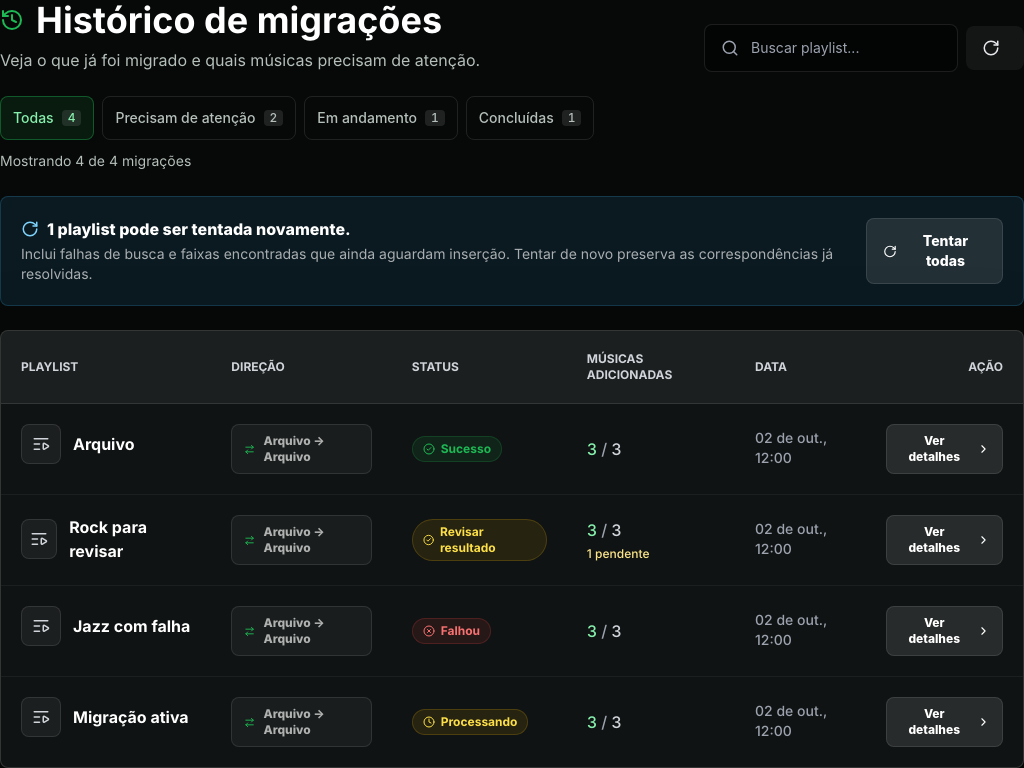
Test: combina filtro de atenção e busca, e permite limpar um resultado vazio
The image size is (1024, 768).
Click the button "Precisam de atenção 2".
click(199, 118)  # box [102,96,296,140]
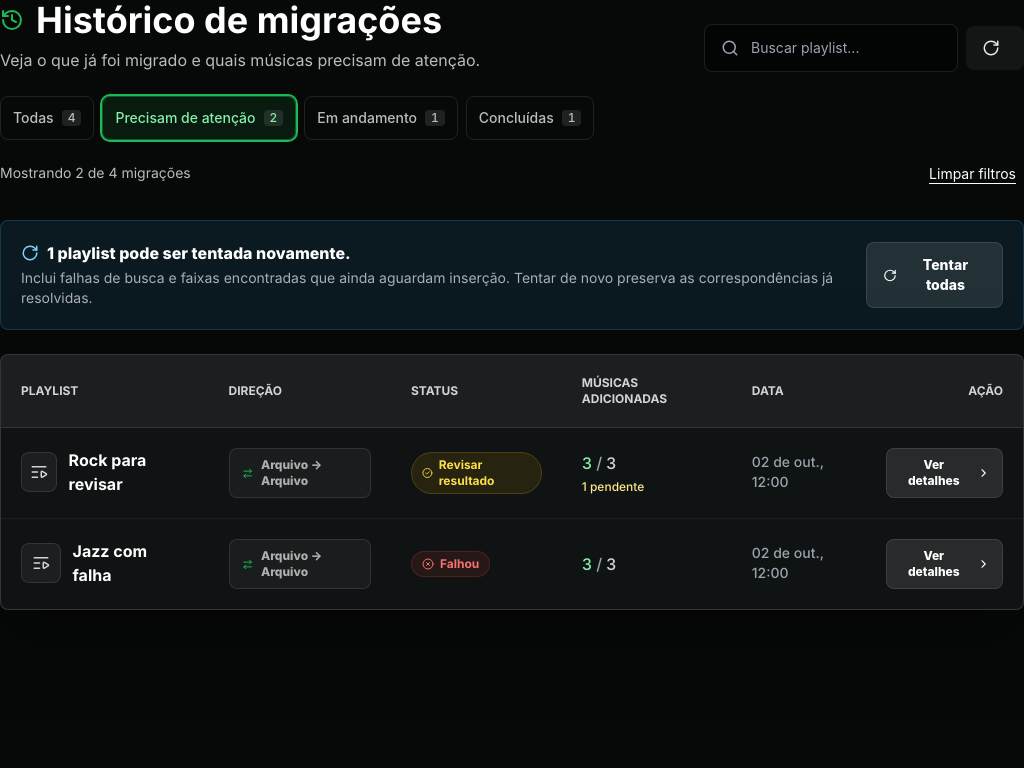
Expected: the cell "Rock para revisar" is shown, [1,428,208,516]
Expected: the text "Migração ativa" is gone
Type "rock" into the field labelled "Buscar playlist".
click(846, 48); type("rock")  # box [751,26,941,70]
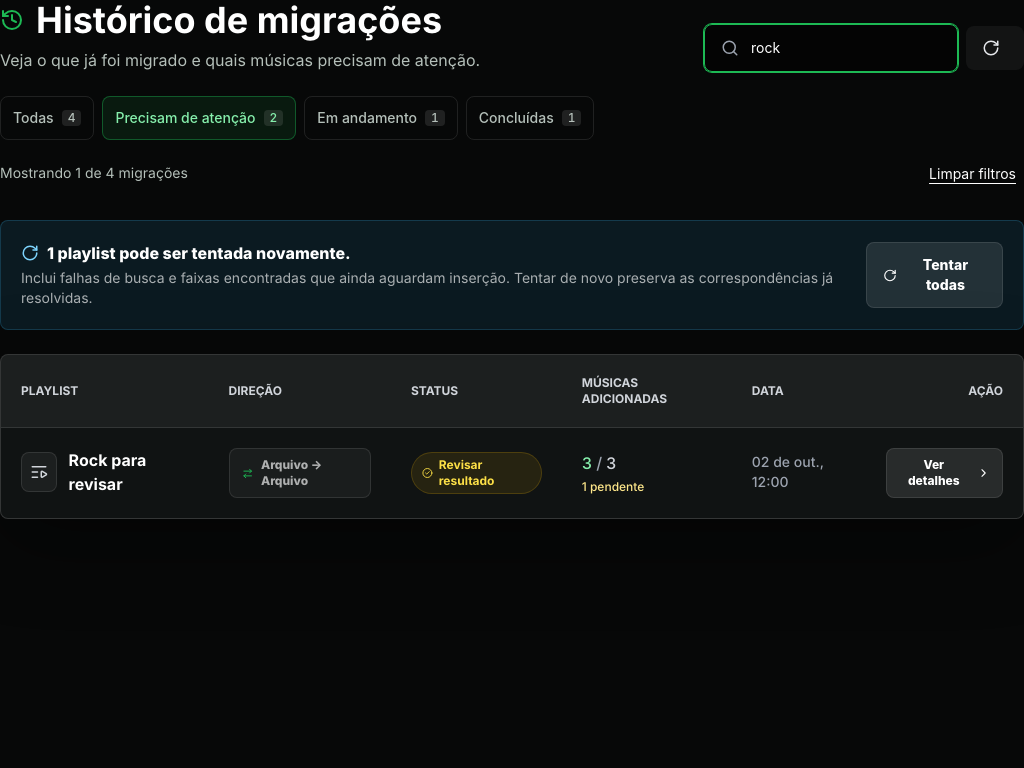
Expected: the text "Jazz com falha" is gone
Click the button "Concluídas 1".
click(530, 118)  # box [466,96,594,140]
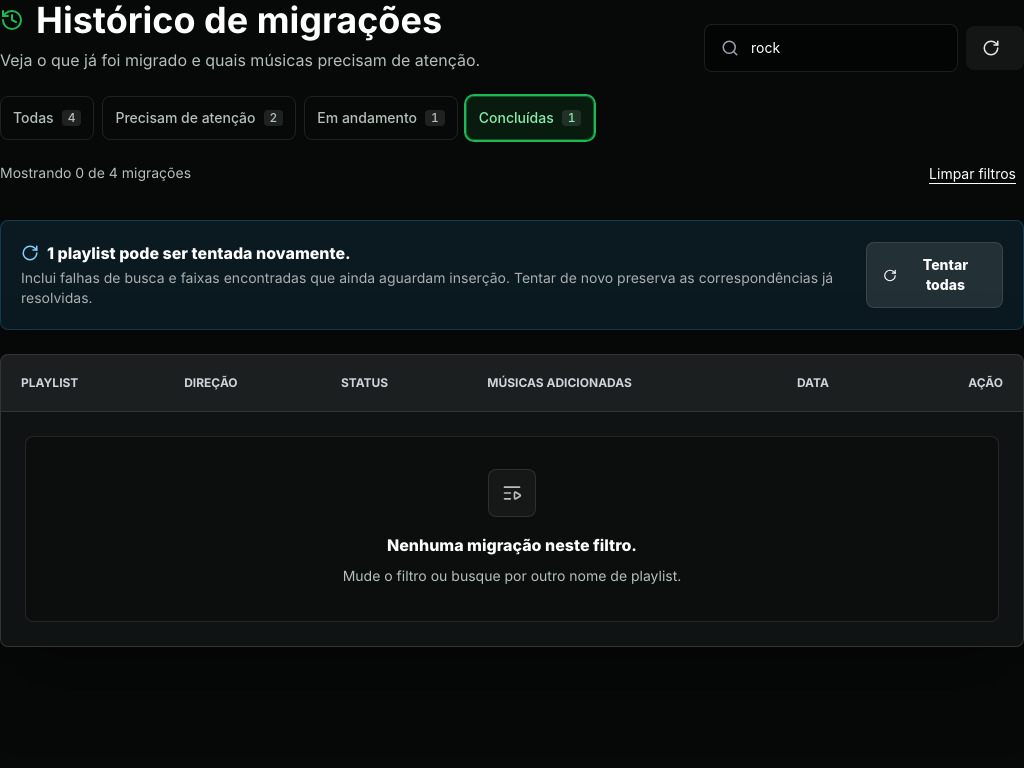
Expected: the text "Nenhuma migração neste filtro." is shown 2 times
Click the button "Limpar filtros".
click(973, 174)  # box [921,152,1023,196]
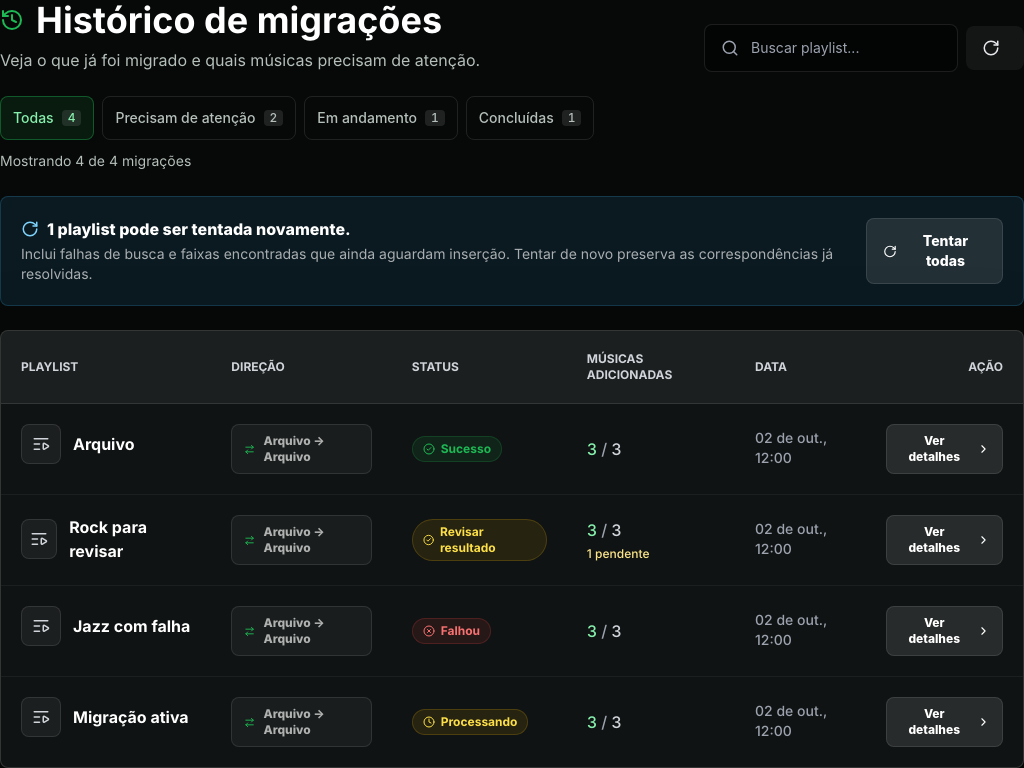
Expected: the field labelled "Buscar playlist" is empty, [751,26,941,70]
Expected: the cell "Arquivo" is shown, [1,404,211,484]
Expected: the cell "Rock para revisar" is shown, [1,495,211,583]
